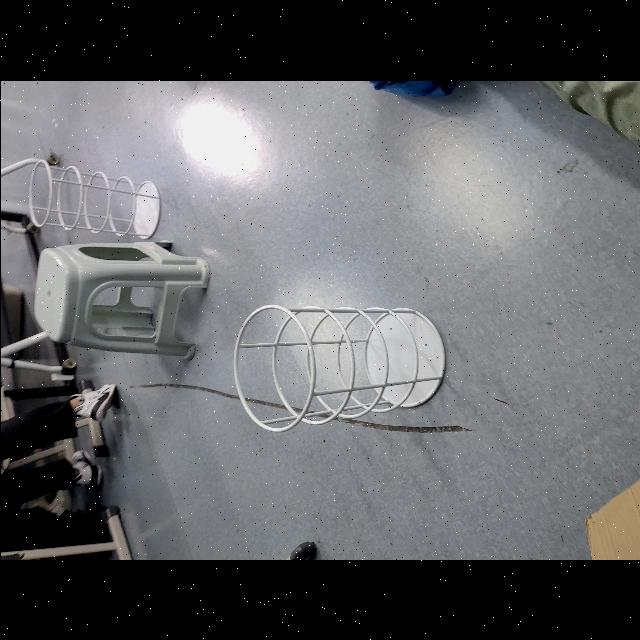S: (232, 300, 448, 432)
